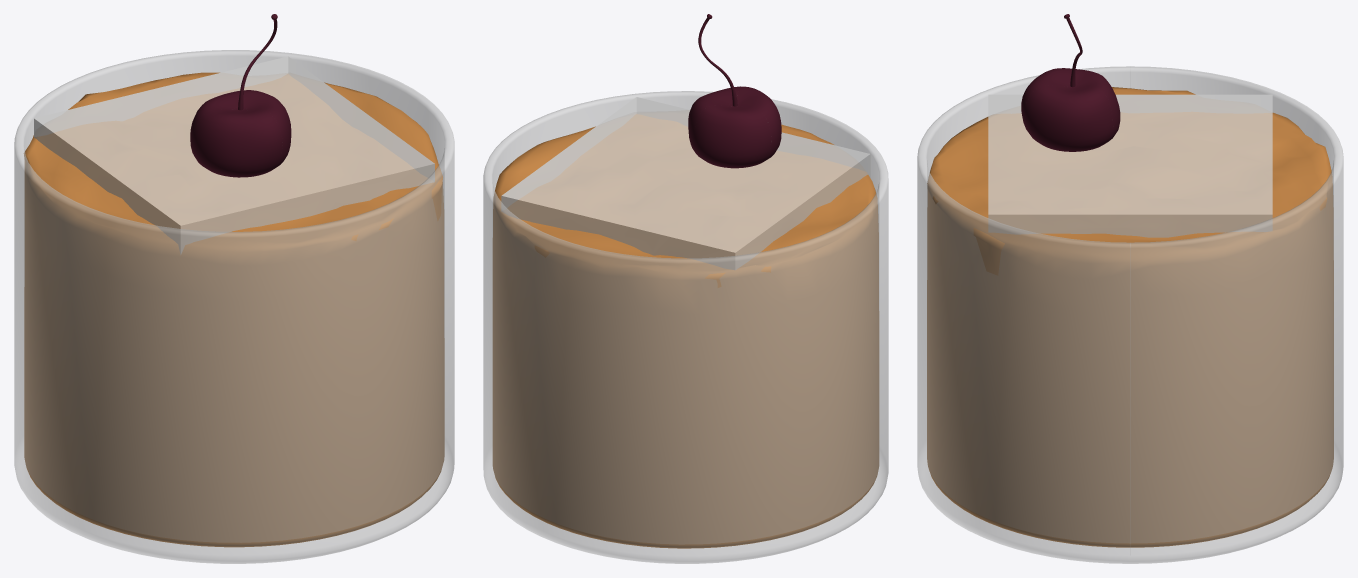
The model's file is old-fashioned.glb.
The picture shows the model from 3 angles, left to right: view 1: azimuth 30°, elevation 25°; view 2: azimuth 150°, elevation 25°; view 3: azimuth 270°, elevation 25°; orthographic projection. The views are drawn at different scales.
Visible parts, largest first — view 1: OF; view 2: OF; view 3: OF.
Boxes of the visible parts, x1=… form: OF: x1=14, y1=14, x2=454, y2=563; OF: x1=483, y1=14, x2=888, y2=563; OF: x1=917, y1=14, x2=1343, y2=563.
Size of what is drawn, in the model's own units: 0.1219 by 0.1475 by 0.1219.
4 materials, 1 textured.
